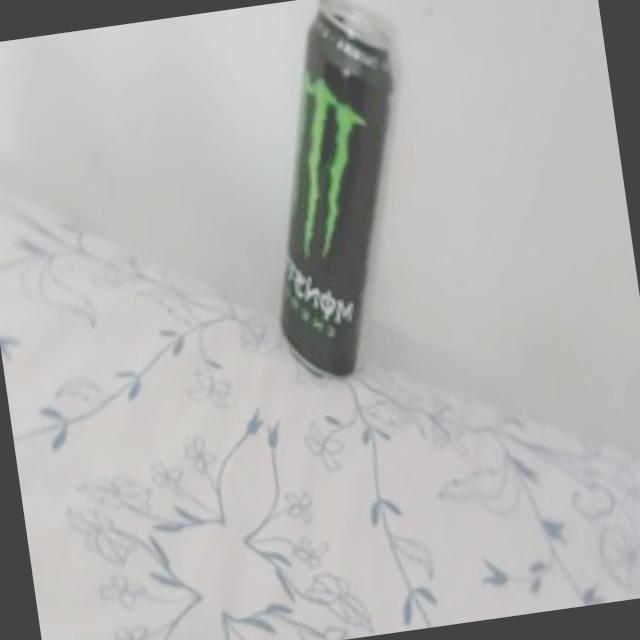Metal: (232, 0, 447, 389)
